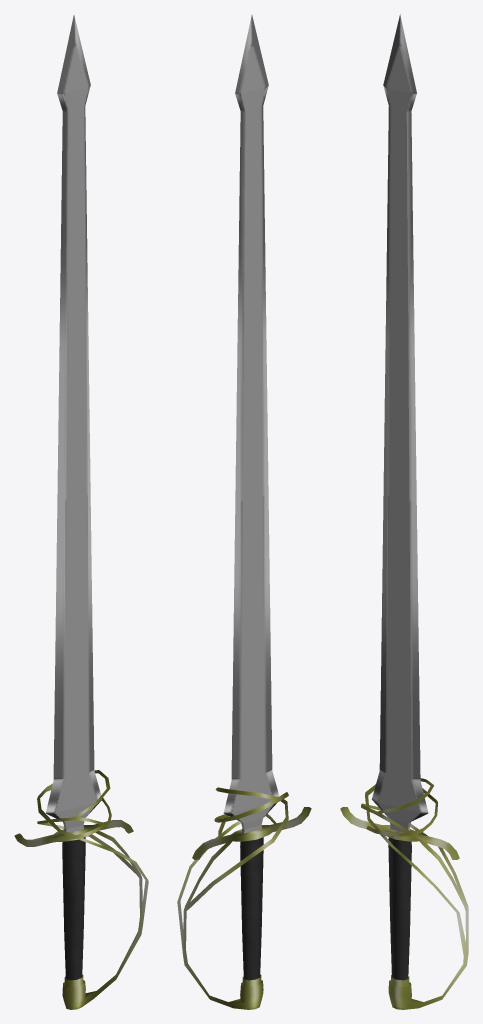
The model's file is wyirna_sword_test.fbx.
3 views of the same model, side by side, from view 1: azimuth 30°, elevation 25°; view 2: azimuth 210°, elevation 25°; view 3: azimuth 330°, elevation 25° (orthographic).
Visible parts, largest first — view 1: sword; view 2: sword; view 3: sword.
Boxes of the visible parts, x1,y1,x2,y2 form: sword: (14, 15, 148, 1009); sword: (177, 15, 311, 1009); sword: (340, 14, 468, 1009).
Size of the model in its own units: 2.26 by 16.93 by 0.9327.
Materials: 1 (1 with a texture image).
